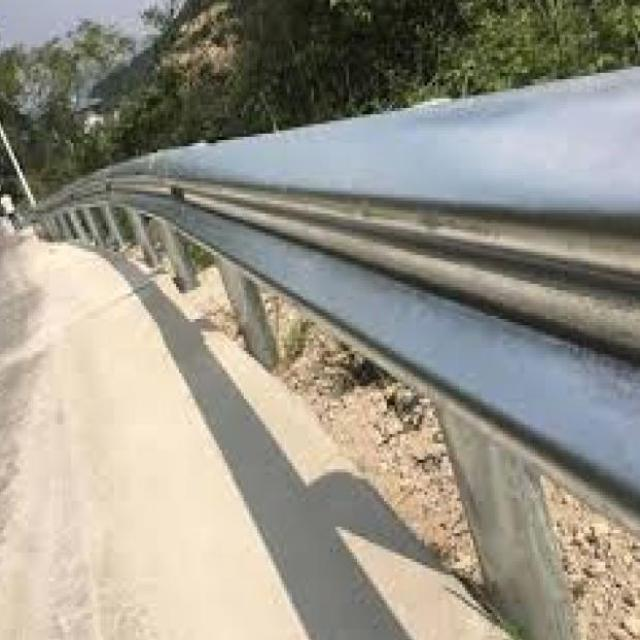Guard rail: (49, 68, 640, 499)
